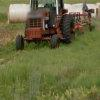Tractor: (10, 2, 82, 51)
